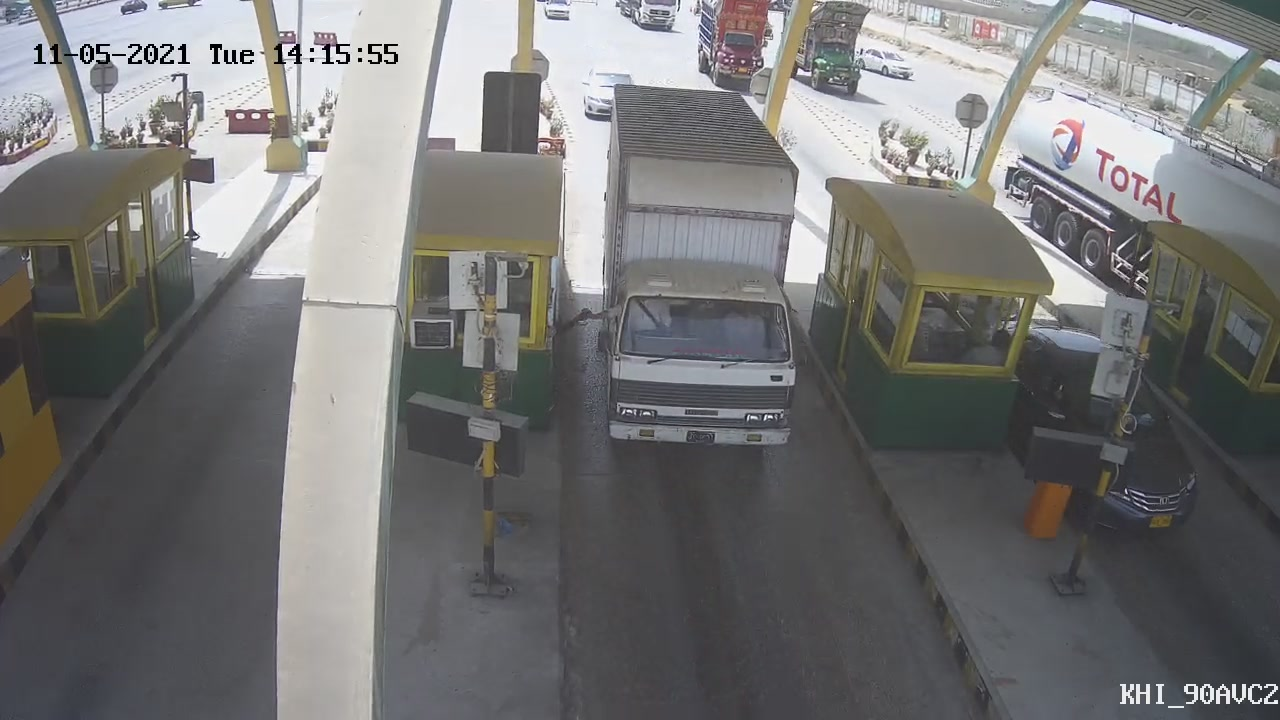F5: (596, 83, 819, 482)
